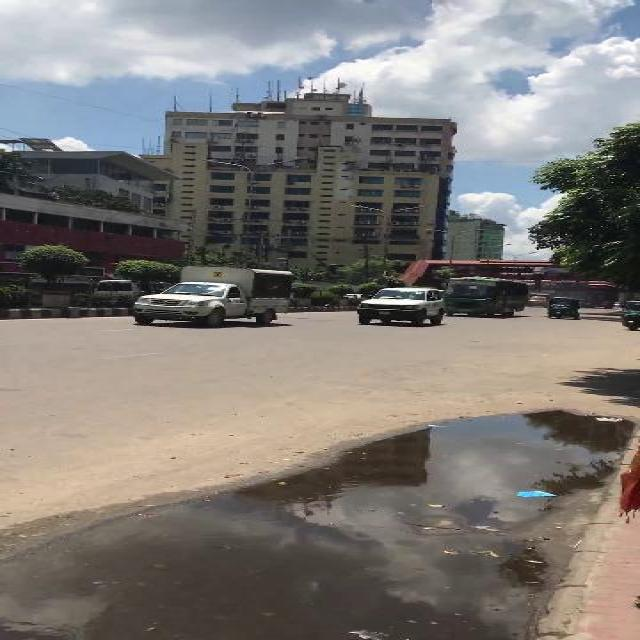bus: (443, 276, 528, 316), (583, 282, 615, 308)
minivan: (356, 286, 444, 324)
pickup: (132, 264, 290, 326)
three wheelers -CNG-: (545, 296, 579, 320)
